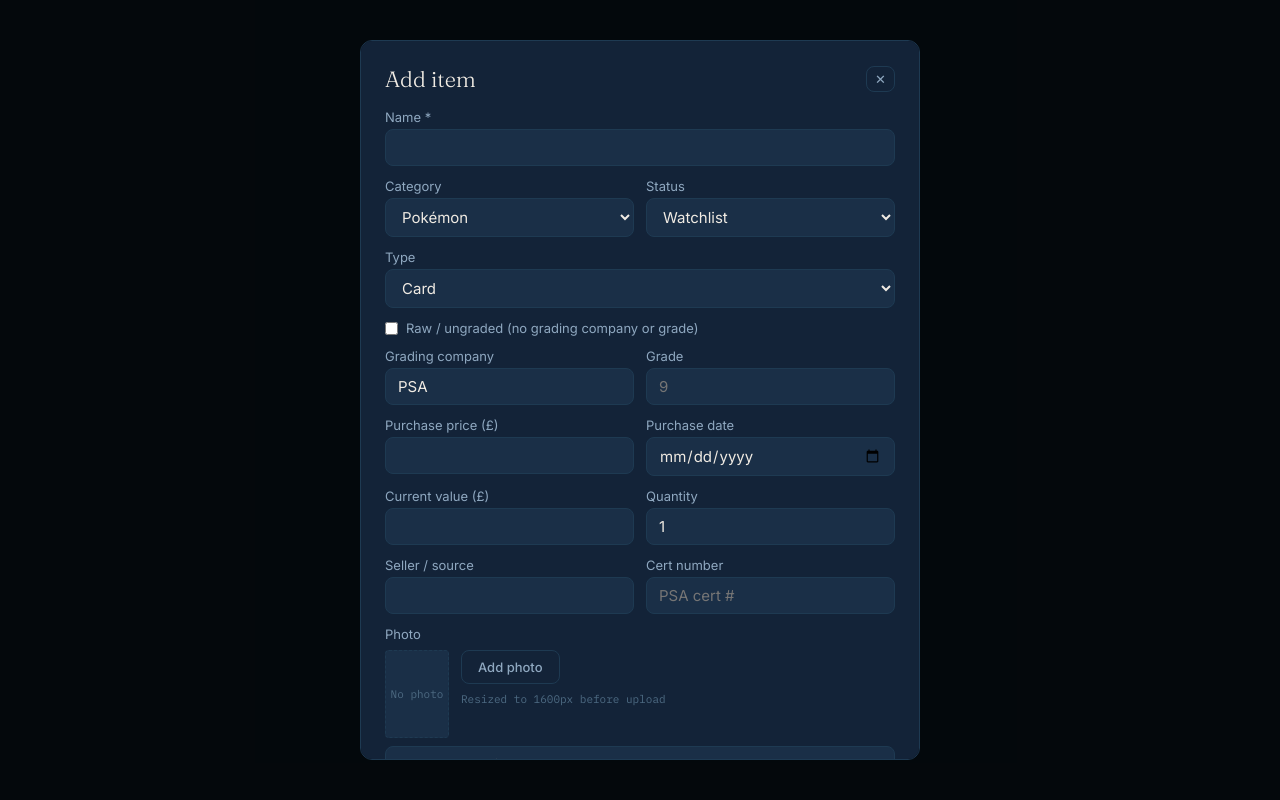
ItemForm payload › hides grading controls for sealed product
Expected: the field labelled "Grading company" is shown, [385,368,634,405]
Select "Booster pack" in the dropdown labelled "Type" at {"x": 640, "y": 288}, box [385,269,895,308]
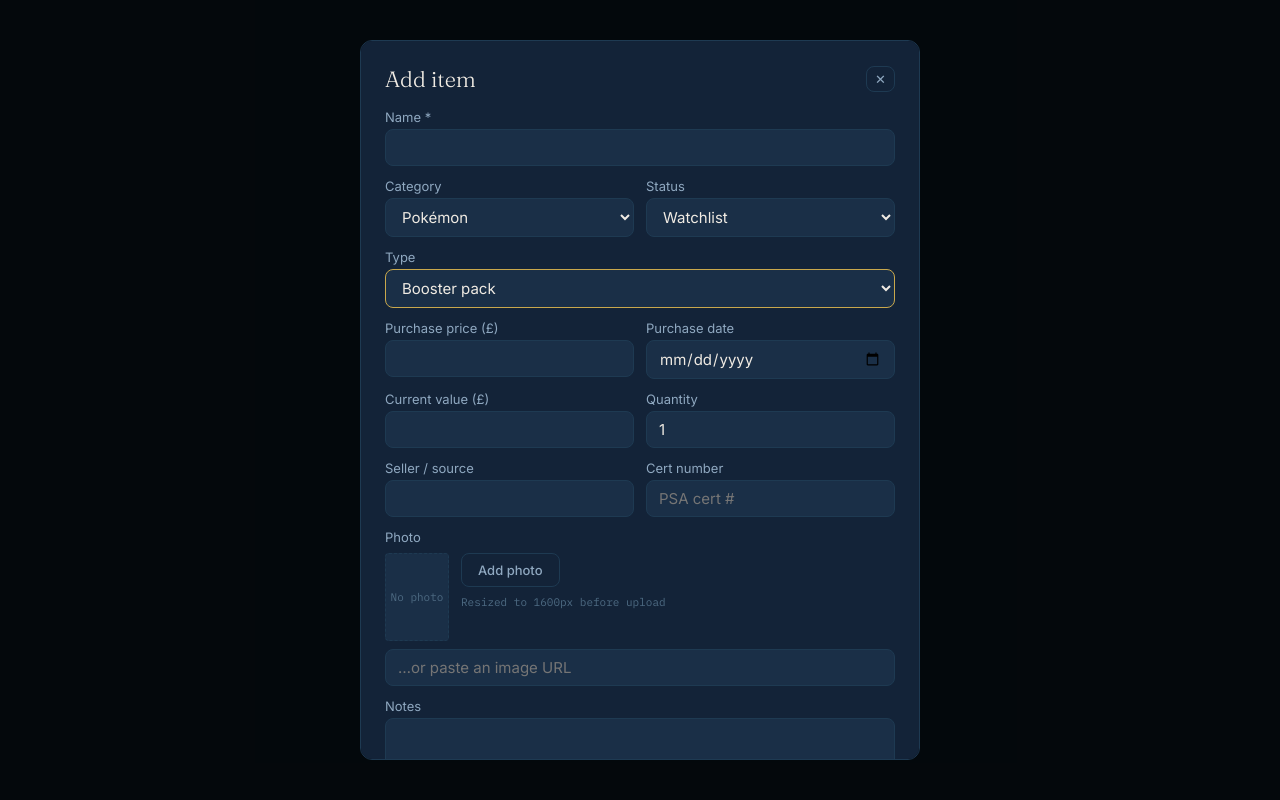
Now the label "grading company" is gone
